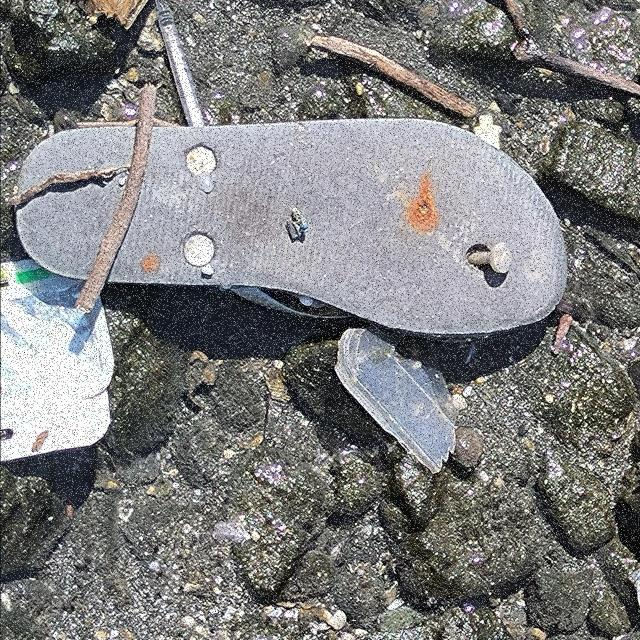rubber_waste: (16, 116, 568, 340)
